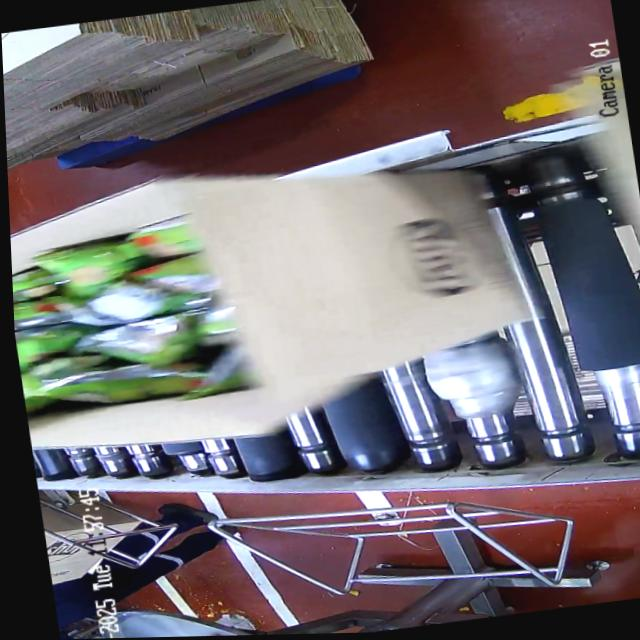YOGURT_HERB: (10, 221, 246, 419)
